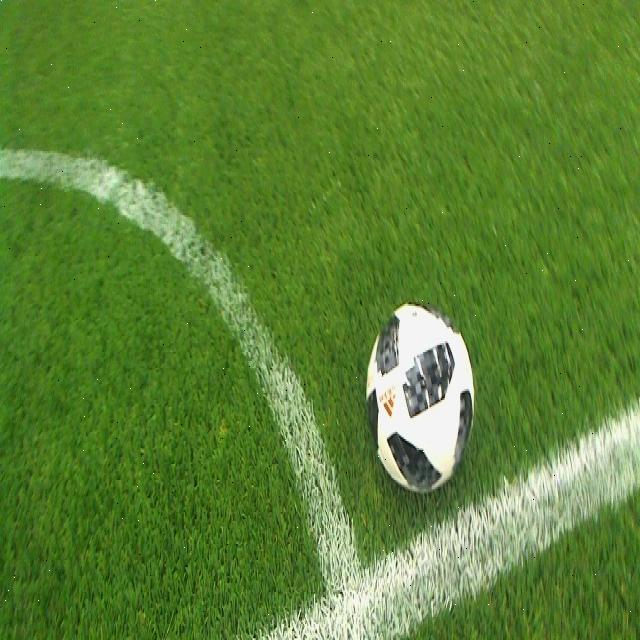ball: (365, 300, 475, 496)
